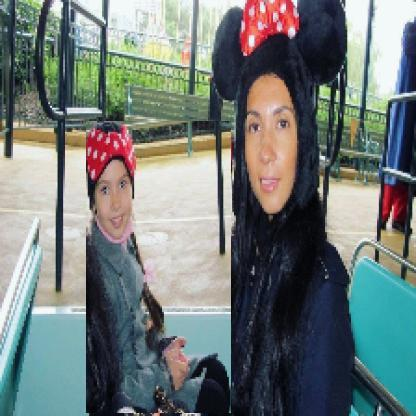child: (87, 122, 233, 415)
